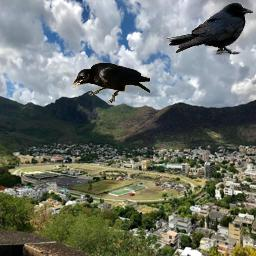Crow: (167, 2, 253, 55), (72, 62, 150, 103)
